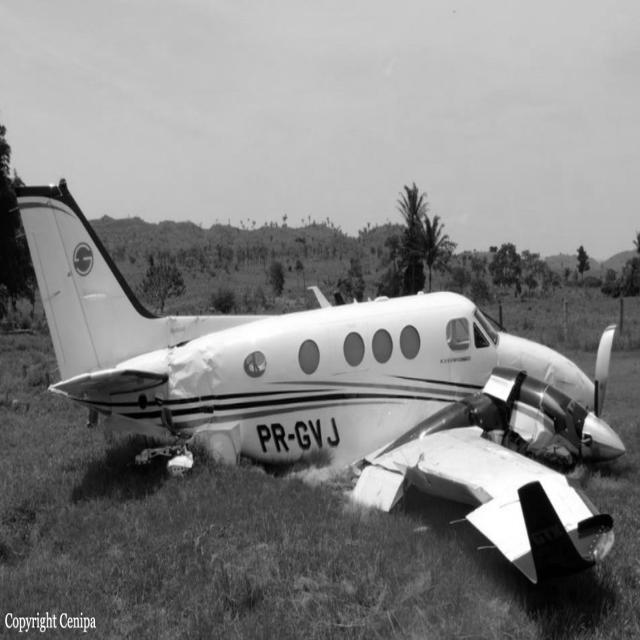dent: (169, 343, 227, 408)
